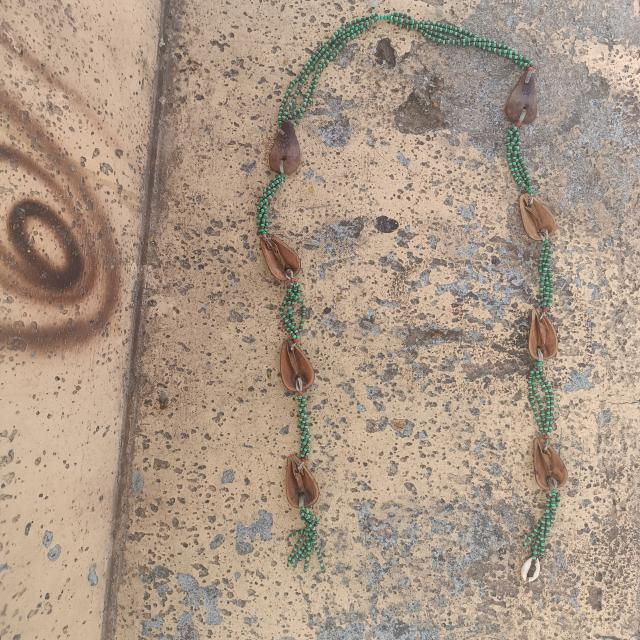facedown: (265, 114, 305, 180), (503, 62, 541, 128)
faceup: (258, 230, 304, 285), (278, 334, 318, 396), (280, 453, 322, 512), (531, 432, 572, 492), (516, 188, 558, 243), (526, 302, 560, 363)
